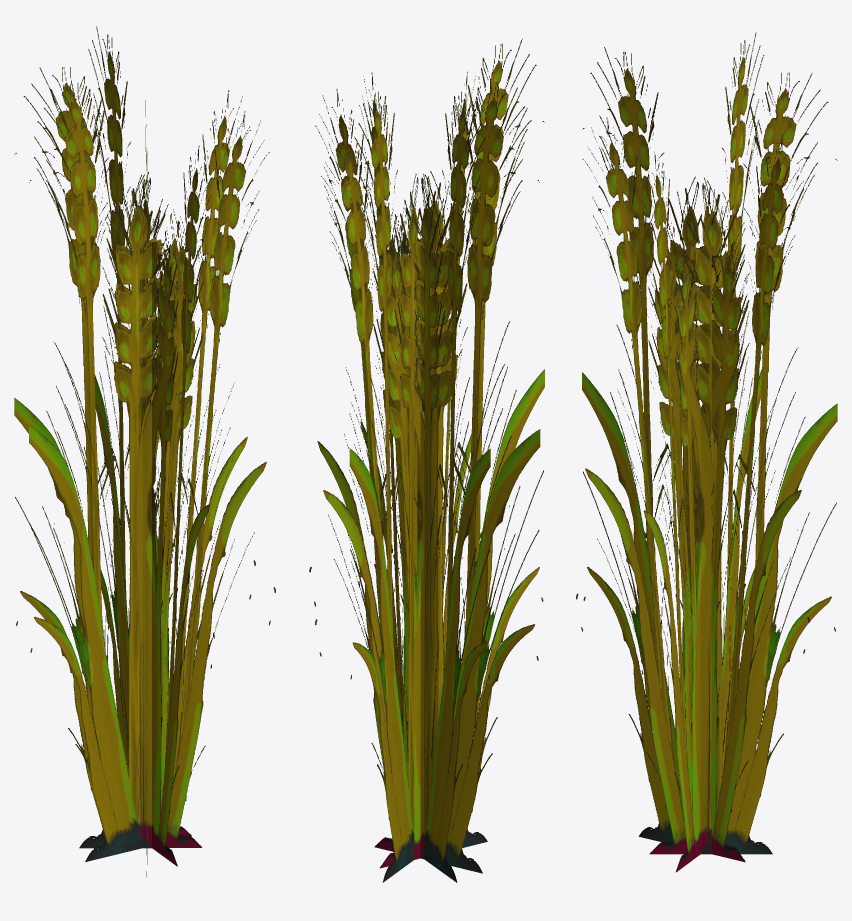
Rendered from Wheat_breakable.fbx.
The picture shows the model from 3 angles, left to right: view 1: azimuth 30°, elevation 25°; view 2: azimuth 150°, elevation 25°; view 3: azimuth 270°, elevation 25°; orthographic projection.
Parts seen in each view (by area): view 1: pPlane10, pPlane12, pPlane8, pPlane9, pPlane11, pPlane15; view 2: pPlane11, pPlane15, pPlane13, pPlane8, pPlane12, pPlane9, pPlane14, pPlane10; view 3: pPlane9, pPlane14, pPlane13, pPlane12, pPlane15.
Boxes of the visible parts, x1,y1,x2,y2 form: pPlane10: (29,83,255,861); pPlane12: (14,67,275,848); pPlane8: (83,26,214,866); pPlane9: (84,28,214,866); pPlane11: (29,84,254,861); pPlane15: (145,100,147,877); pPlane11: (309,81,539,873); pPlane15: (315,39,544,868); pPlane13: (358,73,490,882); pPlane8: (350,72,479,882); pPlane12: (359,72,490,882); pPlane9: (349,72,479,882); pPlane14: (315,38,544,867); pPlane10: (310,82,540,872); pPlane9: (576,73,837,854); pPlane14: (582,47,809,861); pPlane13: (639,33,768,872); pPlane12: (639,32,767,871); pPlane15: (582,47,809,861).
Bounding box in the file's own units: 1.28 × 4.18 × 1.28.
